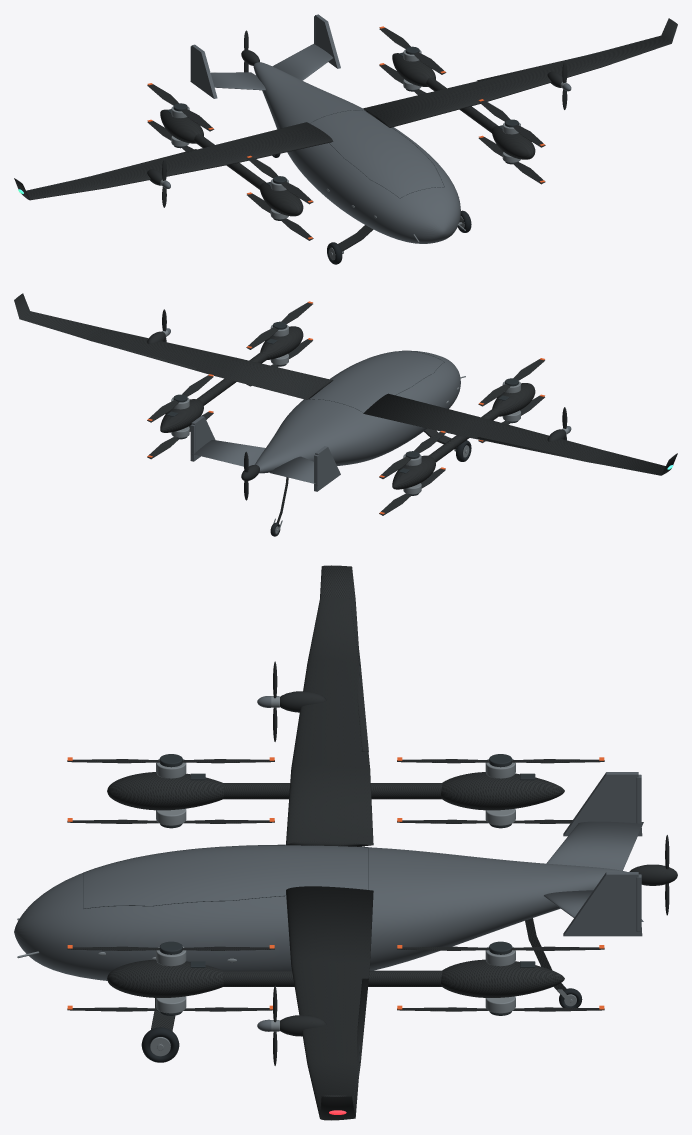
The picture shows the model from 3 angles, top to bottom: view 1: azimuth 30°, elevation 25°; view 2: azimuth 150°, elevation 25°; view 3: azimuth 270°, elevation 25°; orthographic projection. The views are drawn at different scales.
Visible parts, largest first — view 1: Fuselage_Shell, Right_Main_Wing, Left_Main_Wing, Right_Tailplane, Left_Front_Motor_Pod, Right_Front_Motor_Pod, Right_Rear_Motor_Pod, Left_Tailplane, Left_Rear_Motor_Pod, Left_Vertical_Fin, Right_Vertical_Fin, Left_Longitudinal_Boom (+1 smaller); view 2: Fuselage_Shell, Right_Main_Wing, Left_Main_Wing, Right_Tailplane, Left_Rear_Motor_Pod, Right_Rear_Motor_Pod, Right_Front_Motor_Pod, Left_Front_Motor_Pod, Left_Tailplane, Left_Vertical_Fin, Left_Longitudinal_Boom, Right_Longitudinal_Boom (+1 smaller); view 3: Fuselage_Shell, Left_Main_Wing, Right_Main_Wing, Right_Vertical_Fin, Left_Rear_Motor_Pod, Right_Rear_Motor_Pod, Left_Front_Motor_Pod, Right_Front_Motor_Pod, Left_Tailplane, Left_Vertical_Fin, Right_Longitudinal_Boom, Left_Longitudinal_Boom.
Boxes of the visible parts, x1,y1,x2,y2 form: Fuselage_Shell: [253, 62, 460, 243]; Right_Main_Wing: [363, 18, 677, 127]; Left_Main_Wing: [14, 122, 333, 200]; Right_Tailplane: [272, 44, 332, 80]; Left_Front_Motor_Pod: [259, 182, 303, 216]; Right_Front_Motor_Pod: [491, 126, 535, 159]; Right_Rear_Motor_Pod: [392, 53, 435, 86]; Left_Tailplane: [210, 72, 265, 90]; Left_Rear_Motor_Pod: [160, 109, 203, 143]; Left_Vertical_Fin: [190, 44, 217, 98]; Right_Vertical_Fin: [315, 14, 340, 68]; Left_Longitudinal_Boom: [194, 134, 265, 189]; Fuselage_Shell: [255, 350, 460, 473]; Right_Main_Wing: [14, 293, 333, 399]; Left_Main_Wing: [363, 393, 677, 475]; Right_Tailplane: [192, 440, 265, 466]; Left_Rear_Motor_Pod: [392, 455, 435, 489]; Right_Rear_Motor_Pod: [160, 399, 203, 432]; Right_Front_Motor_Pod: [260, 326, 303, 359]; Left_Front_Motor_Pod: [492, 383, 535, 416]; Left_Tailplane: [270, 456, 315, 483]; Left_Vertical_Fin: [314, 446, 340, 491]; Left_Longitudinal_Boom: [428, 407, 500, 462]; Right_Longitudinal_Boom: [196, 351, 268, 405]; Fuselage_Shell: [14, 845, 626, 980]; Left_Main_Wing: [286, 565, 373, 846]; Right_Main_Wing: [286, 886, 373, 1120]; Right_Vertical_Fin: [563, 872, 642, 936]; Left_Rear_Motor_Pod: [441, 772, 564, 810]; Right_Rear_Motor_Pod: [441, 959, 564, 997]; Left_Front_Motor_Pod: [107, 772, 223, 810]; Right_Front_Motor_Pod: [107, 959, 223, 997]; Left_Tailplane: [546, 821, 643, 870]; Left_Vertical_Fin: [563, 772, 642, 836]; Right_Longitudinal_Boom: [223, 970, 442, 986]; Left_Longitudinal_Boom: [223, 783, 442, 799].
Bounding box in the file's own units: 7 × 1.15 × 3.71.
8 materials, 1 textured.
